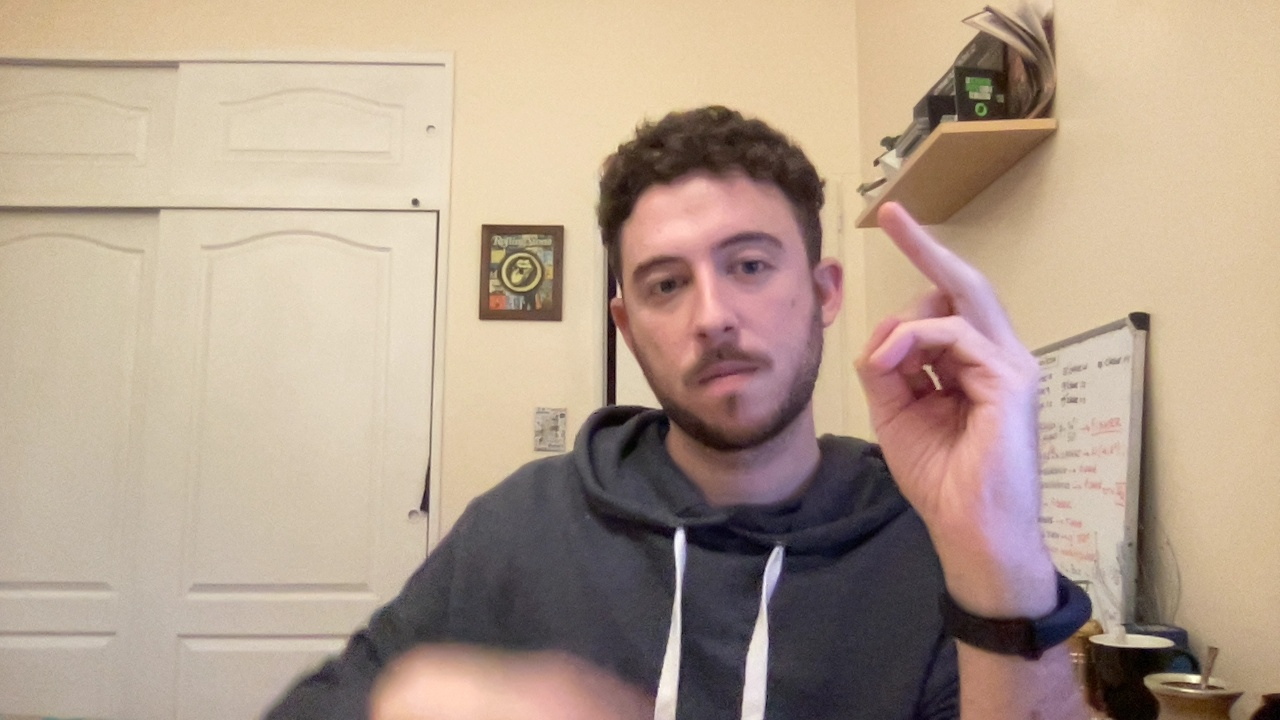anular: (840, 198, 1084, 572)
